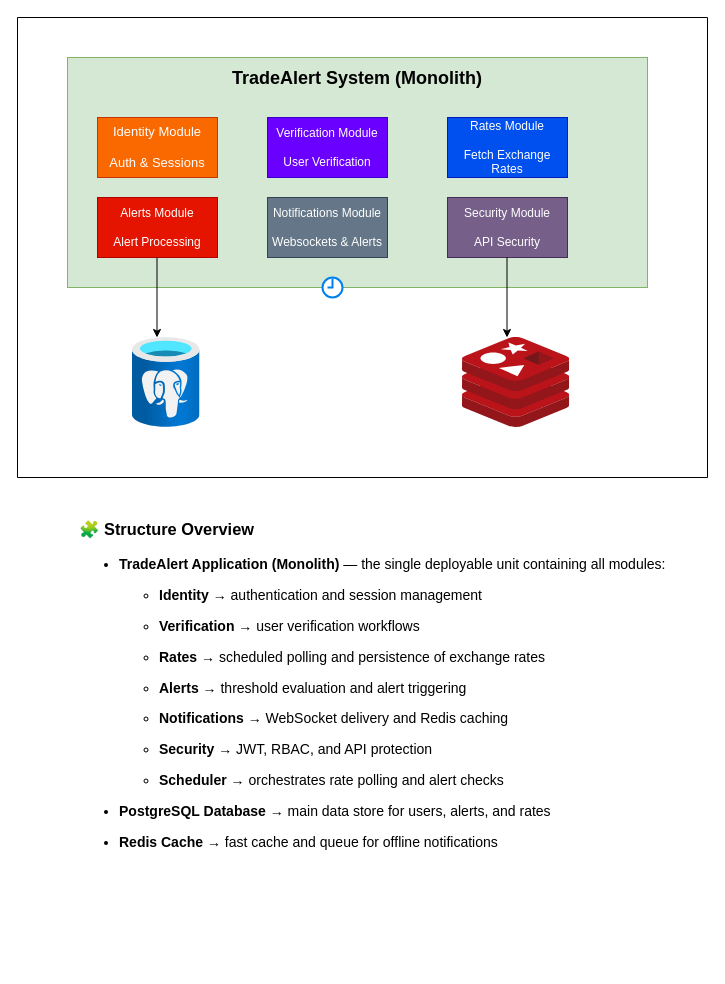
The diagram is 725 pixels wide and 984 high, and some of its shapes have lost their labels. Each missing label, with the centre of its shape:
PostgreSQL main Database: the point at 166,382
Redis Cache Cache & Queue: the point at 515,382
Scheduler: the point at 332,287
